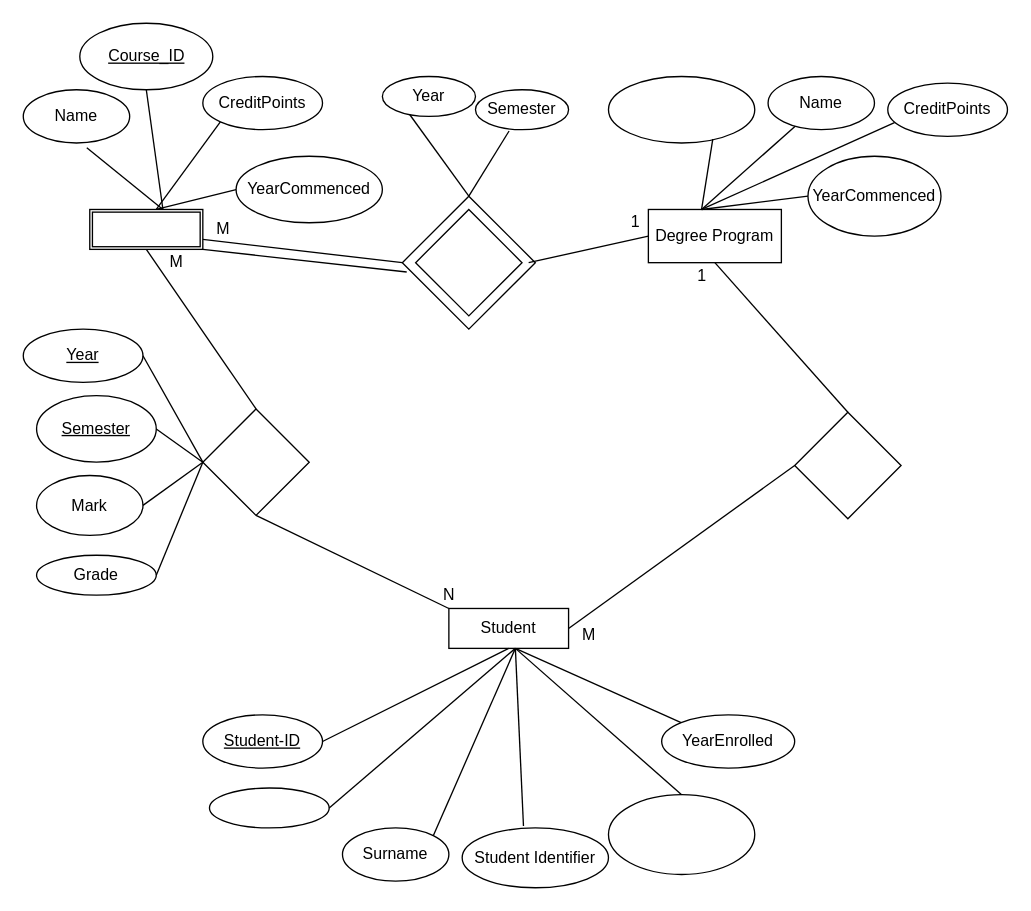
This 1031x911 diagram has some shape labels left out. Each missing label, with the box of its shape:
Attempts: (201, 408, 309, 515)
contains: (414, 208, 522, 316)
Course: (88, 208, 203, 249)
Date_of_Birth: (607, 793, 755, 874)
enrolls in: (793, 411, 901, 519)
Given Names: (208, 787, 329, 828)
Program_ID: (607, 75, 755, 143)
